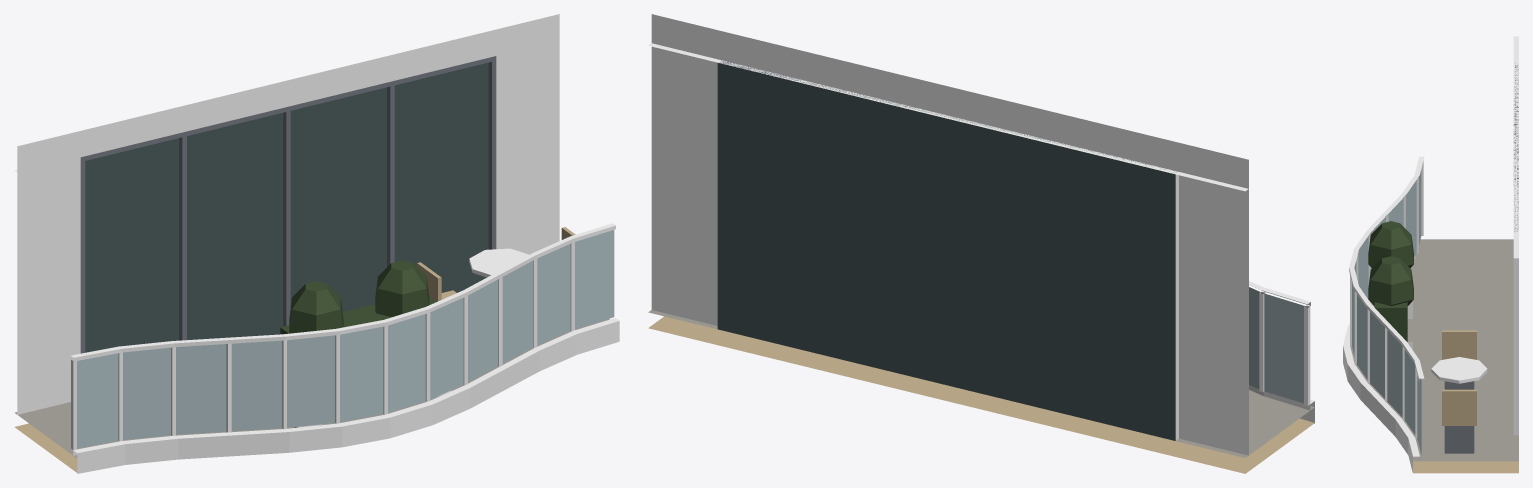
File: mid-w1_close.fbx
3 views of the same model, side by side, from view 1: azimuth 30°, elevation 25°; view 2: azimuth 150°, elevation 25°; view 3: azimuth 270°, elevation 25° (orthographic). The views are drawn at different scales.
Visible parts, largest first — view 1: a2019/500/mid-w1_close; view 2: a2019/500/mid-w1_close; view 3: a2019/500/mid-w1_close.
Part boxes in pixels (x1,y1,x2,y2): a2019/500/mid-w1_close: [14, 14, 619, 473]; a2019/500/mid-w1_close: [648, 14, 1314, 473]; a2019/500/mid-w1_close: [1343, 36, 1518, 473].
Size of the model in its own units: 6 by 3 by 2.01.
